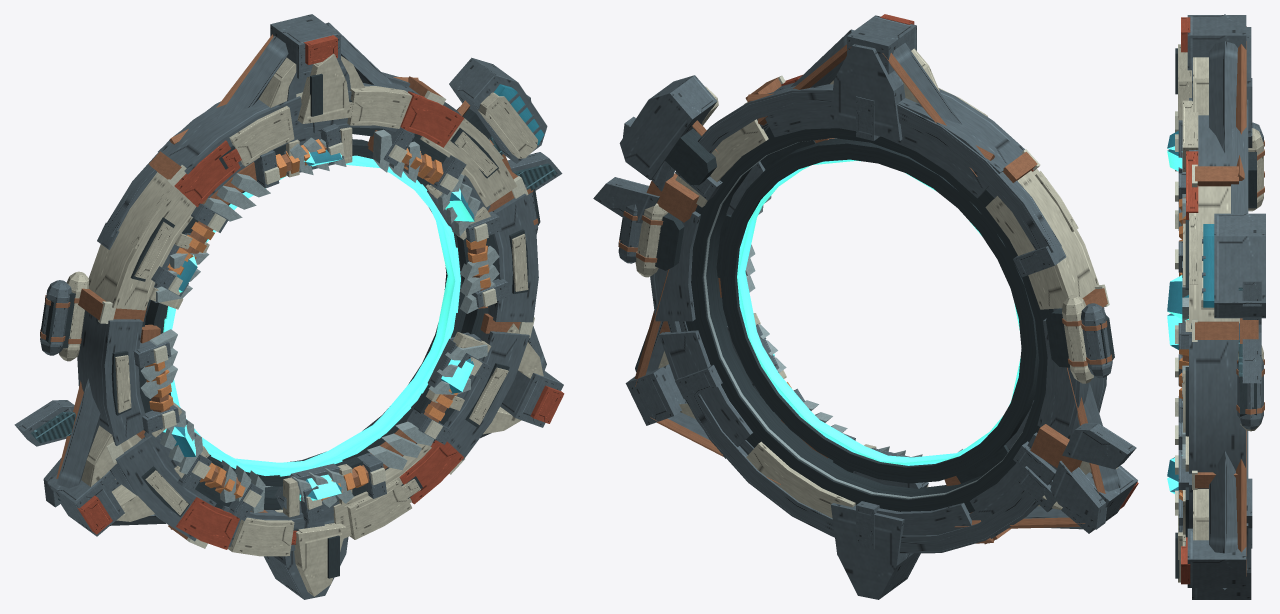
The model's file is gate-flight.glb.
3 renders of one model, left to right at view 1: azimuth 30°, elevation 25°; view 2: azimuth 150°, elevation 25°; view 3: azimuth 270°, elevation 25°, orthographic. The views are drawn at different scales.
Visible parts, largest first — view 1: gate-frame-bastion, gate-frame-keel, gate-emitter-coil, gate-frame-trefoil, gate-emitter-lamella, gate-emitter-prism, gate-service-bridge, gate-service-radiator, gate-service-pods; view 2: gate-frame-bastion, gate-frame-keel, gate-frame-trefoil, gate-emitter-prism, gate-service-radiator, gate-service-pods, gate-service-bridge, gate-emitter-coil, gate-emitter-lamella; view 3: gate-frame-trefoil, gate-frame-bastion, gate-frame-keel, gate-service-bridge, gate-emitter-coil, gate-service-pods, gate-service-radiator, gate-emitter-prism, gate-emitter-lamella.
Boxes of the visible parts, box(x1,y1,x2,y2) form: gate-frame-bastion: box(77, 76, 538, 550); gate-frame-keel: box(102, 53, 503, 599); gate-emitter-coil: box(133, 124, 509, 523); gate-frame-trefoil: box(47, 14, 564, 536); gate-emitter-lamella: box(140, 129, 499, 513); gate-emitter-prism: box(144, 127, 491, 517); gate-service-bridge: box(101, 57, 547, 491); gate-service-radiator: box(14, 95, 562, 507); gate-service-pods: box(40, 184, 540, 361); gate-frame-bastion: box(650, 75, 1109, 544); gate-frame-keel: box(674, 44, 1078, 599); gate-frame-trefoil: box(625, 14, 1138, 548); gate-emitter-prism: box(720, 140, 1039, 488); gate-service-radiator: box(593, 116, 1136, 529); gate-service-pods: box(618, 203, 1114, 383); gate-service-bridge: box(619, 75, 1062, 512); gate-emitter-coil: box(716, 138, 1036, 483); gate-emitter-lamella: box(718, 138, 1011, 485); gate-frame-trefoil: box(1181, 14, 1252, 589); gate-frame-bastion: box(1183, 78, 1252, 548); gate-frame-keel: box(1175, 27, 1252, 599); gate-service-bridge: box(1201, 213, 1265, 318); gate-emitter-coil: box(1175, 111, 1191, 532); gate-service-pods: box(1236, 122, 1264, 431); gate-service-radiator: box(1238, 281, 1261, 383); gate-emitter-prism: box(1167, 131, 1191, 493); gate-emitter-lamella: box(1182, 145, 1188, 490).
Bounding box in the file's own units: 2.52 × 2.5 × 0.391.
Materials: 1 (1 with a texture image).
